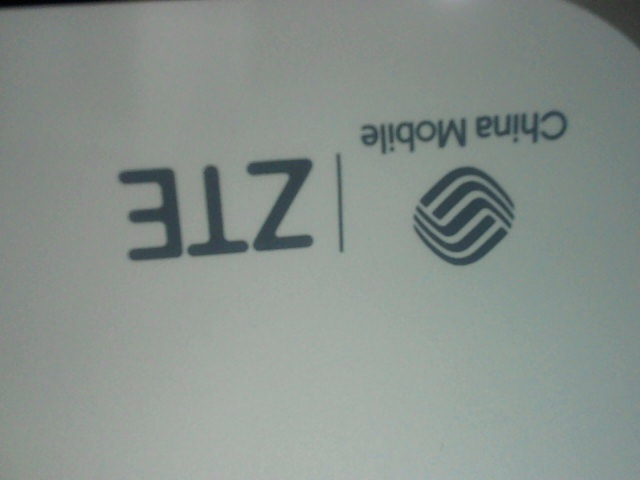AL_ZTEChinaMobile: (113, 108, 579, 268)
